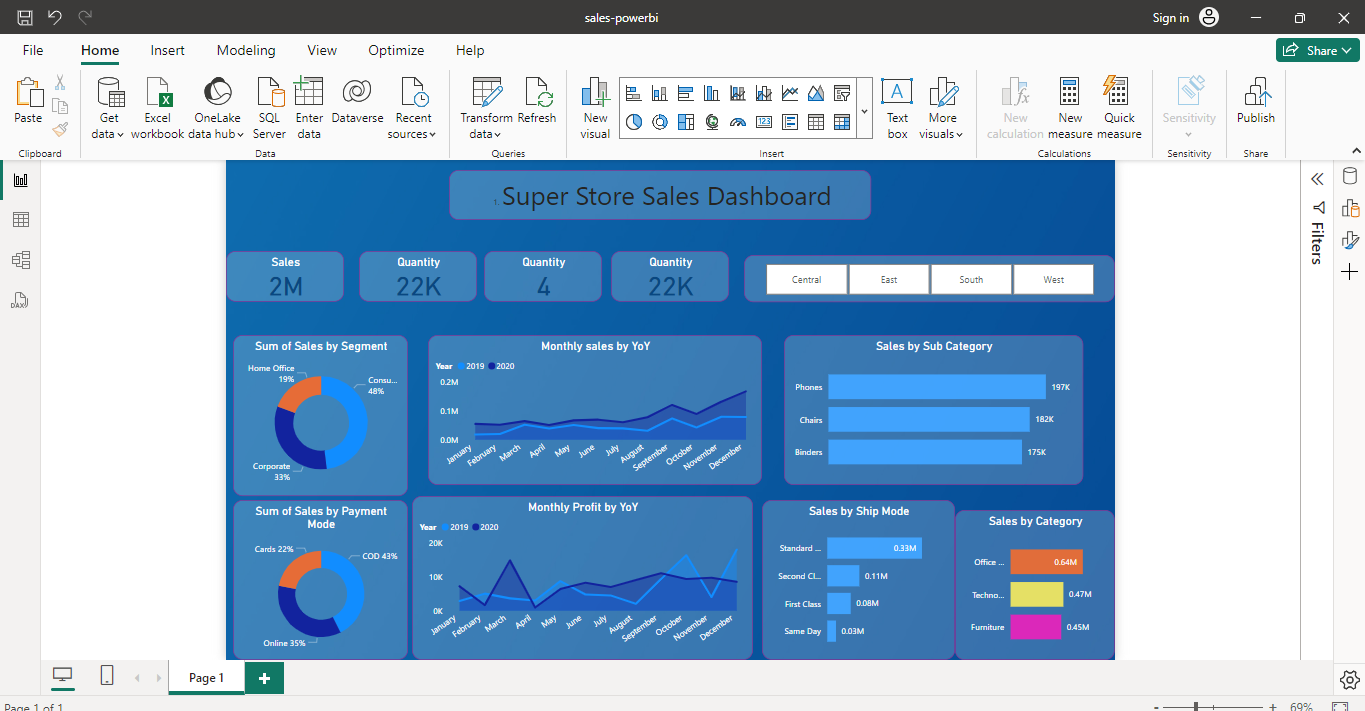

The dashboard page shown, as its layout file describes it:
{"tool":"powerbi","page":{"name":"Page 1","canvas":[1280,720],"ordinal":0},"visuals":[{"type":"clusteredBarChart","title":" Sales by Category","fields":{"Category":["SuperStore_Sales_Dataset.Category"],"Y":["Sum(SuperStore_Sales_Dataset.Sales)"]},"box":[1049.8,504,230.4,216],"z":0},{"type":"clusteredBarChart","title":" Sales by Sub Category","fields":{"Y":["Sum(SuperStore_Sales_Dataset.Sales)"],"Category":["SuperStore_Sales_Dataset.Sub-Category"]},"box":[803.5,252,430.6,216],"z":1000},{"type":"clusteredBarChart","title":" Sales by Ship Mode","fields":{"Y":["Sum(SuperStore_Sales_Dataset.Sales)"],"Category":["SuperStore_Sales_Dataset.Ship Mode"]},"box":[771.8,489.6,277.9,230.4],"z":2000},{"type":"areaChart","title":" Monthly sales by YoY","fields":{"Y":["Sum(SuperStore_Sales_Dataset.Sales)"],"Category":["SuperStore_Sales_Dataset.Order Date.Variation.Date Hierarchy.Month","SuperStore_Sales_Dataset.Order Date.Variation.Date Hierarchy.Day"],"Series":["SuperStore_Sales_Dataset.Order Date.Variation.Date Hierarchy.Year"]},"box":[290.9,252,481,216],"z":3000},{"type":"areaChart","title":" Monthly Profit by YoY","fields":{"Category":["SuperStore_Sales_Dataset.Order Date.Variation.Date Hierarchy.Month","SuperStore_Sales_Dataset.Order Date.Variation.Date Hierarchy.Day"],"Series":["SuperStore_Sales_Dataset.Order Date.Variation.Date Hierarchy.Year"],"Y":["Sum(SuperStore_Sales_Dataset.Profit)"]},"box":[267.8,483.8,491,236.2],"z":4000},{"type":"donutChart","fields":{"Category":["SuperStore_Sales_Dataset.Segment"],"Y":["Sum(SuperStore_Sales_Dataset.Sales)"]},"box":[10.1,252,252,231.8],"z":5000},{"type":"donutChart","fields":{"Y":["Sum(SuperStore_Sales_Dataset.Sales)"],"Category":["SuperStore_Sales_Dataset.Payment Mode"]},"box":[10.1,489.6,252,230.4],"z":6000},{"type":"slicer","fields":{"Values":["SuperStore_Sales_Dataset.Region"]},"box":[745.9,136.8,534.2,67.7],"z":7000},{"type":"textbox","box":[321.1,14.4,607.7,72],"z":8000},{"type":"card","title":"Sales","fields":{"Values":["Sum(SuperStore_Sales_Dataset.Sales)"]},"box":[0,130.5,169.8,73.3],"z":9000},{"type":"card","title":"Quantity","fields":{"Values":["Sum(SuperStore_Sales_Dataset.Quantity)"]},"box":[191.3,130.5,169.8,73.3],"z":10000},{"type":"card","title":"Quantity","fields":{"Values":["Sum(SuperStore_Sales_Dataset.Quantity)"]},"box":[554.4,131,169.9,73.4],"z":11000},{"type":"card","title":"Quantity","fields":{"Values":["Avg(SuperStore_Sales_Dataset.AvgDelivery)"]},"box":[371.5,131,169.9,73.4],"z":12000}]}

Visuals, with their boxes on the page's 1280x720 design canvas (x1, y1, x2, y2). These are canvas units, not pixel positions in the 1365x711 screenshot, which may show the page scaled, cropped or inside an application window:
" Sales by Category" clusteredBarChart: region(1050, 504, 1280, 720)
" Sales by Sub Category" clusteredBarChart: region(804, 252, 1234, 468)
" Sales by Ship Mode" clusteredBarChart: region(772, 490, 1050, 720)
" Monthly sales by YoY" areaChart: region(291, 252, 772, 468)
" Monthly Profit by YoY" areaChart: region(268, 484, 759, 720)
donutChart - SuperStore_Sales_Dataset.Segment x Sum(SuperStore_Sales_Dataset.Sales): region(10, 252, 262, 484)
donutChart - Sum(SuperStore_Sales_Dataset.Sales) x SuperStore_Sales_Dataset.Payment Mode: region(10, 490, 262, 720)
slicer - SuperStore_Sales_Dataset.Region: region(746, 137, 1280, 204)
textbox: region(321, 14, 929, 86)
"Sales" card: region(0, 130, 170, 204)
"Quantity" card: region(191, 130, 361, 204)
"Quantity" card: region(554, 131, 724, 204)
"Quantity" card: region(372, 131, 541, 204)
